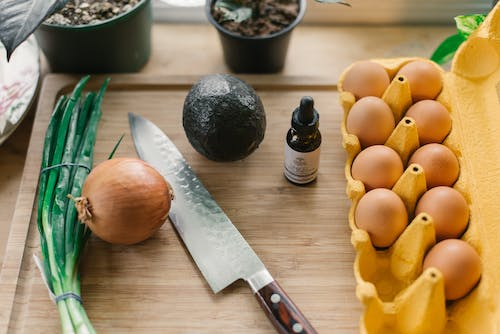knife: (127, 110, 319, 334)
